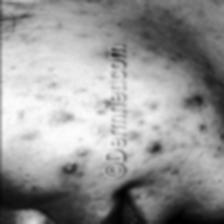Non-Cancerous Skin Condition: (127, 92, 196, 154), (64, 164, 74, 174), (100, 100, 108, 108)
